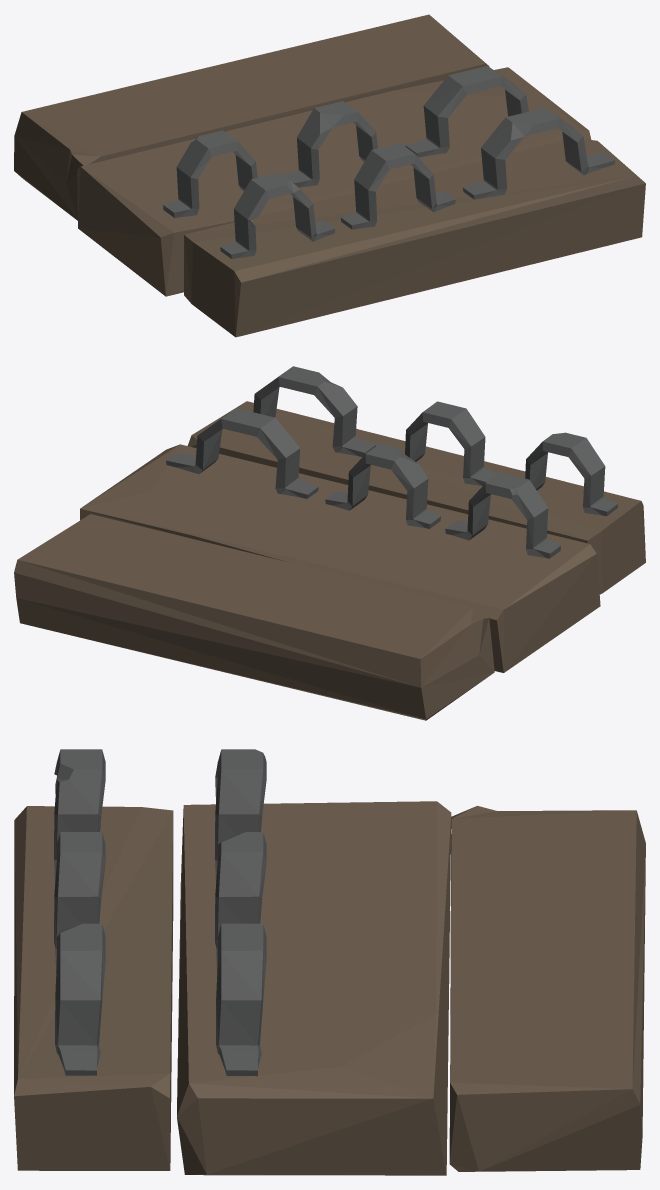
Rendered from Tool_Table_001.fbx.
The picture shows the model from 3 angles, top to bottom: view 1: azimuth 30°, elevation 25°; view 2: azimuth 150°, elevation 25°; view 3: azimuth 270°, elevation 25°; orthographic projection. The views are drawn at different scales.
Parts seen in each view (by area): view 1: Tool_Table_001; view 2: Tool_Table_001; view 3: Tool_Table_001.
Part boxes in pixels (<box>): Tool_Table_001: <box>14,14,645,337</box>; Tool_Table_001: <box>14,366,645,720</box>; Tool_Table_001: <box>14,749,645,1175</box>.
Size of the model in its own units: 0.2816 by 0.0786 by 0.2535.
